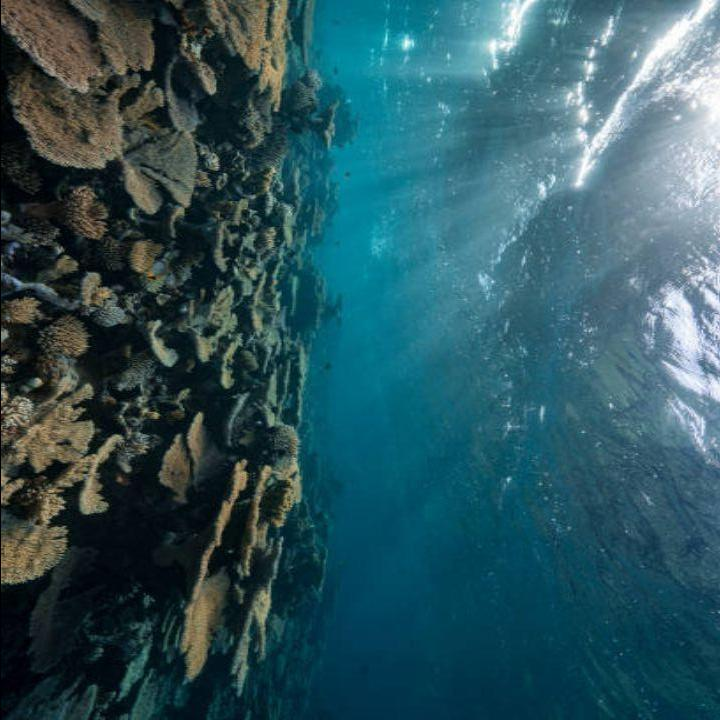Healthy Coral: (8, 19, 325, 688)
